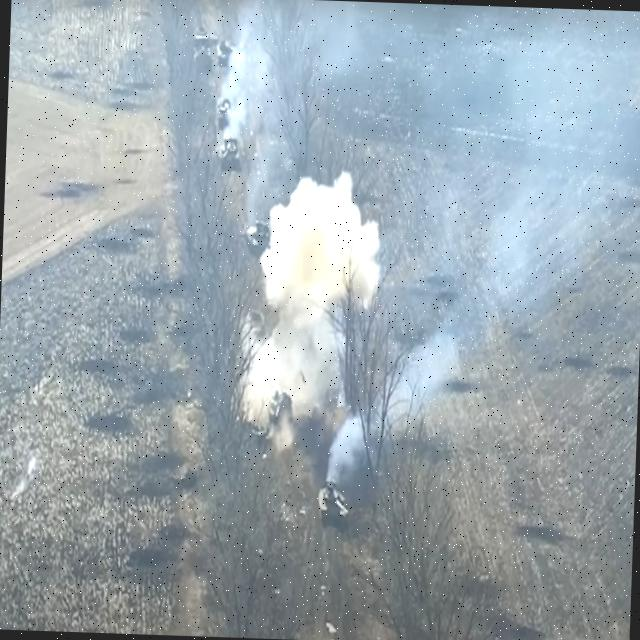AIFV: (246, 306, 267, 345), (195, 47, 214, 74), (194, 19, 212, 46), (570, 604, 576, 608)
MBT: (315, 477, 352, 529), (233, 216, 274, 260), (266, 386, 296, 433), (218, 133, 244, 175), (213, 94, 238, 132), (217, 36, 241, 72)
